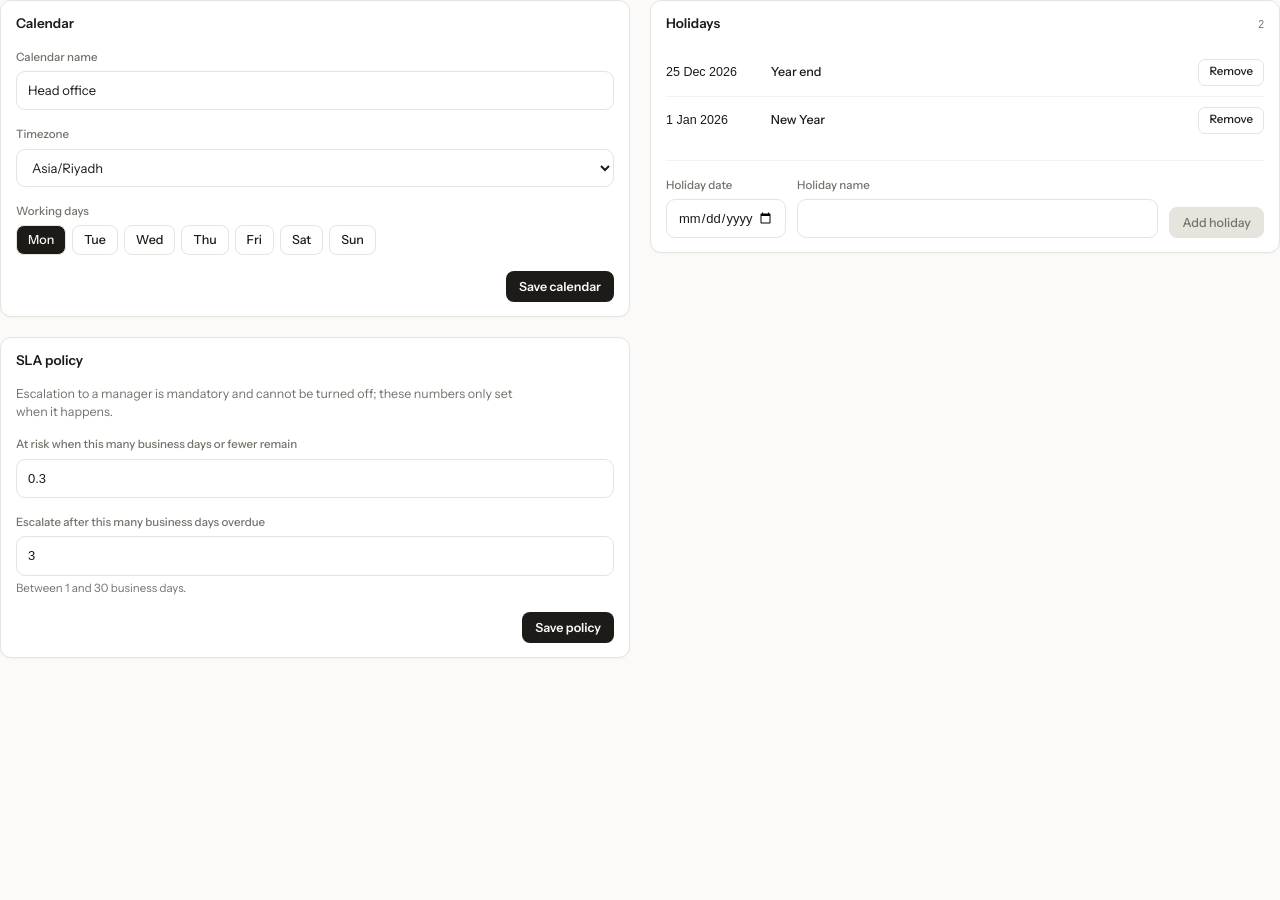
Test: business calendar page › disables Save with a message when no working day is picked
Step 1. Click the button "Mon" → (41, 240), box [16,225,66,255]
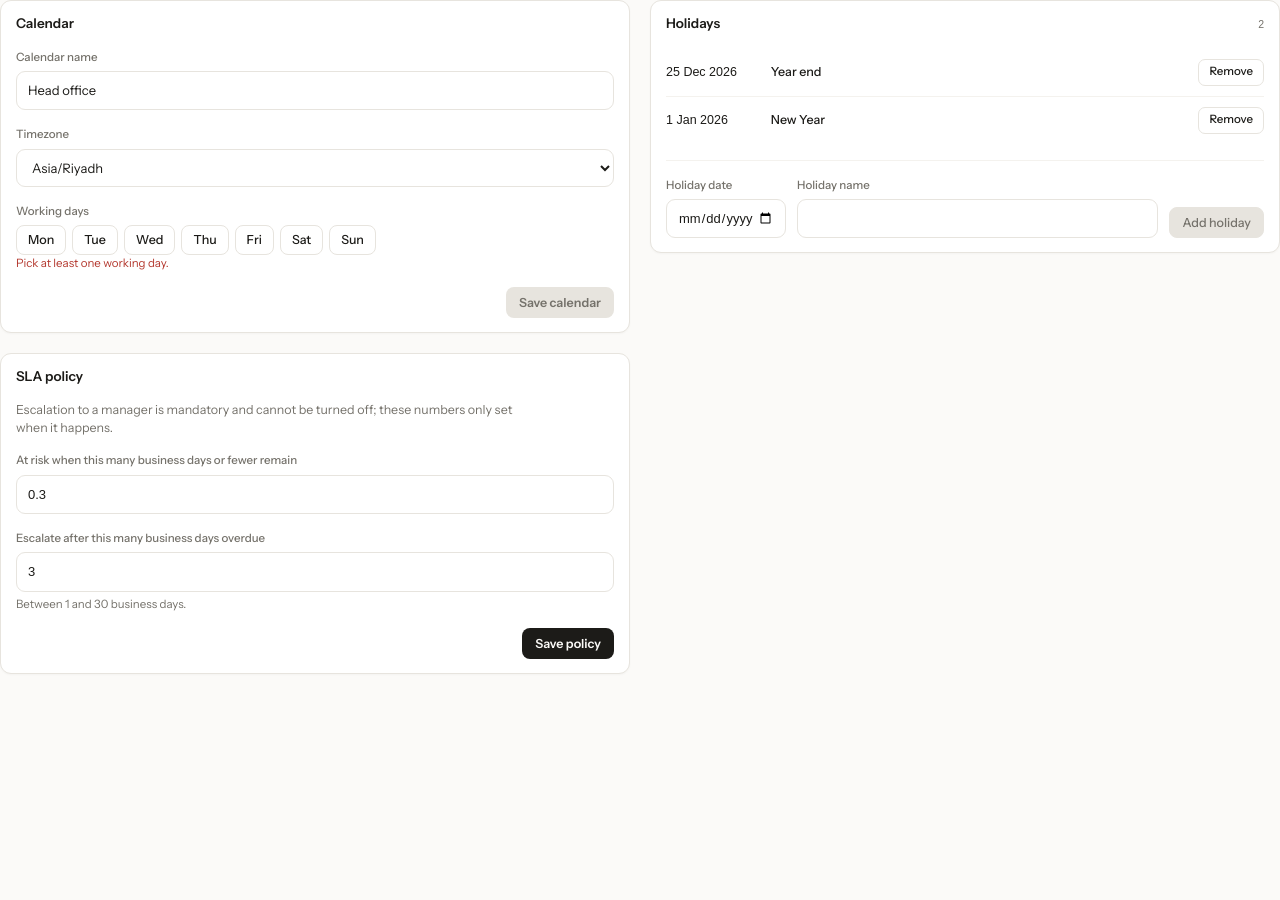
Expected: the text "Pick at least one working day." is shown, [16,256,169,270]
Expected: the button "Save calendar" is disabled, [506,287,614,318]
